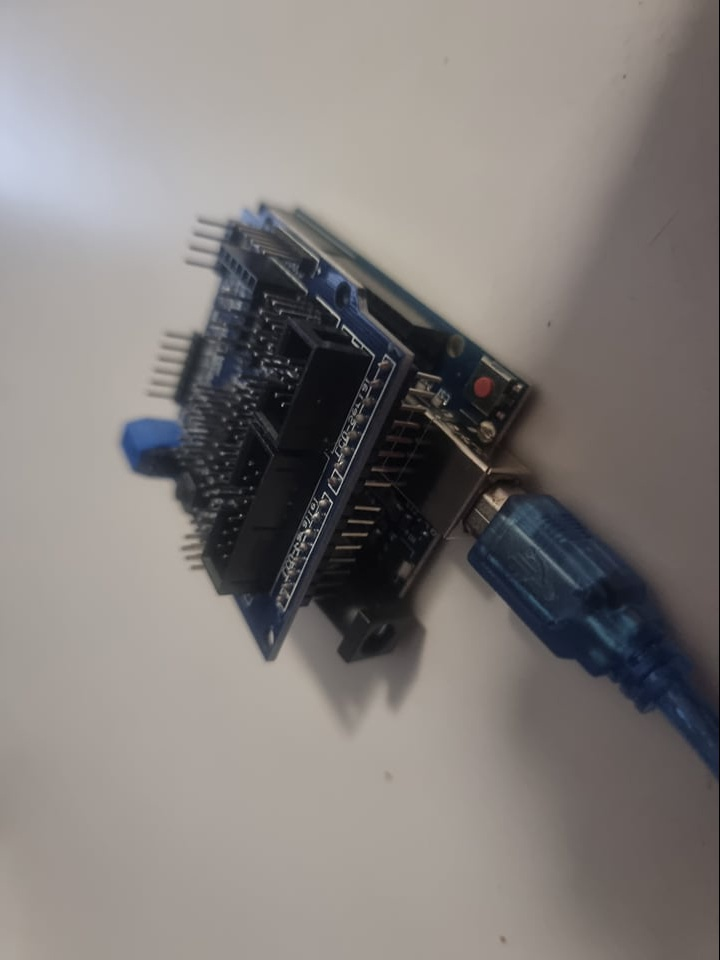5V EXPANSION: (115, 202, 348, 665)
UNO R3: (326, 341, 530, 678)
